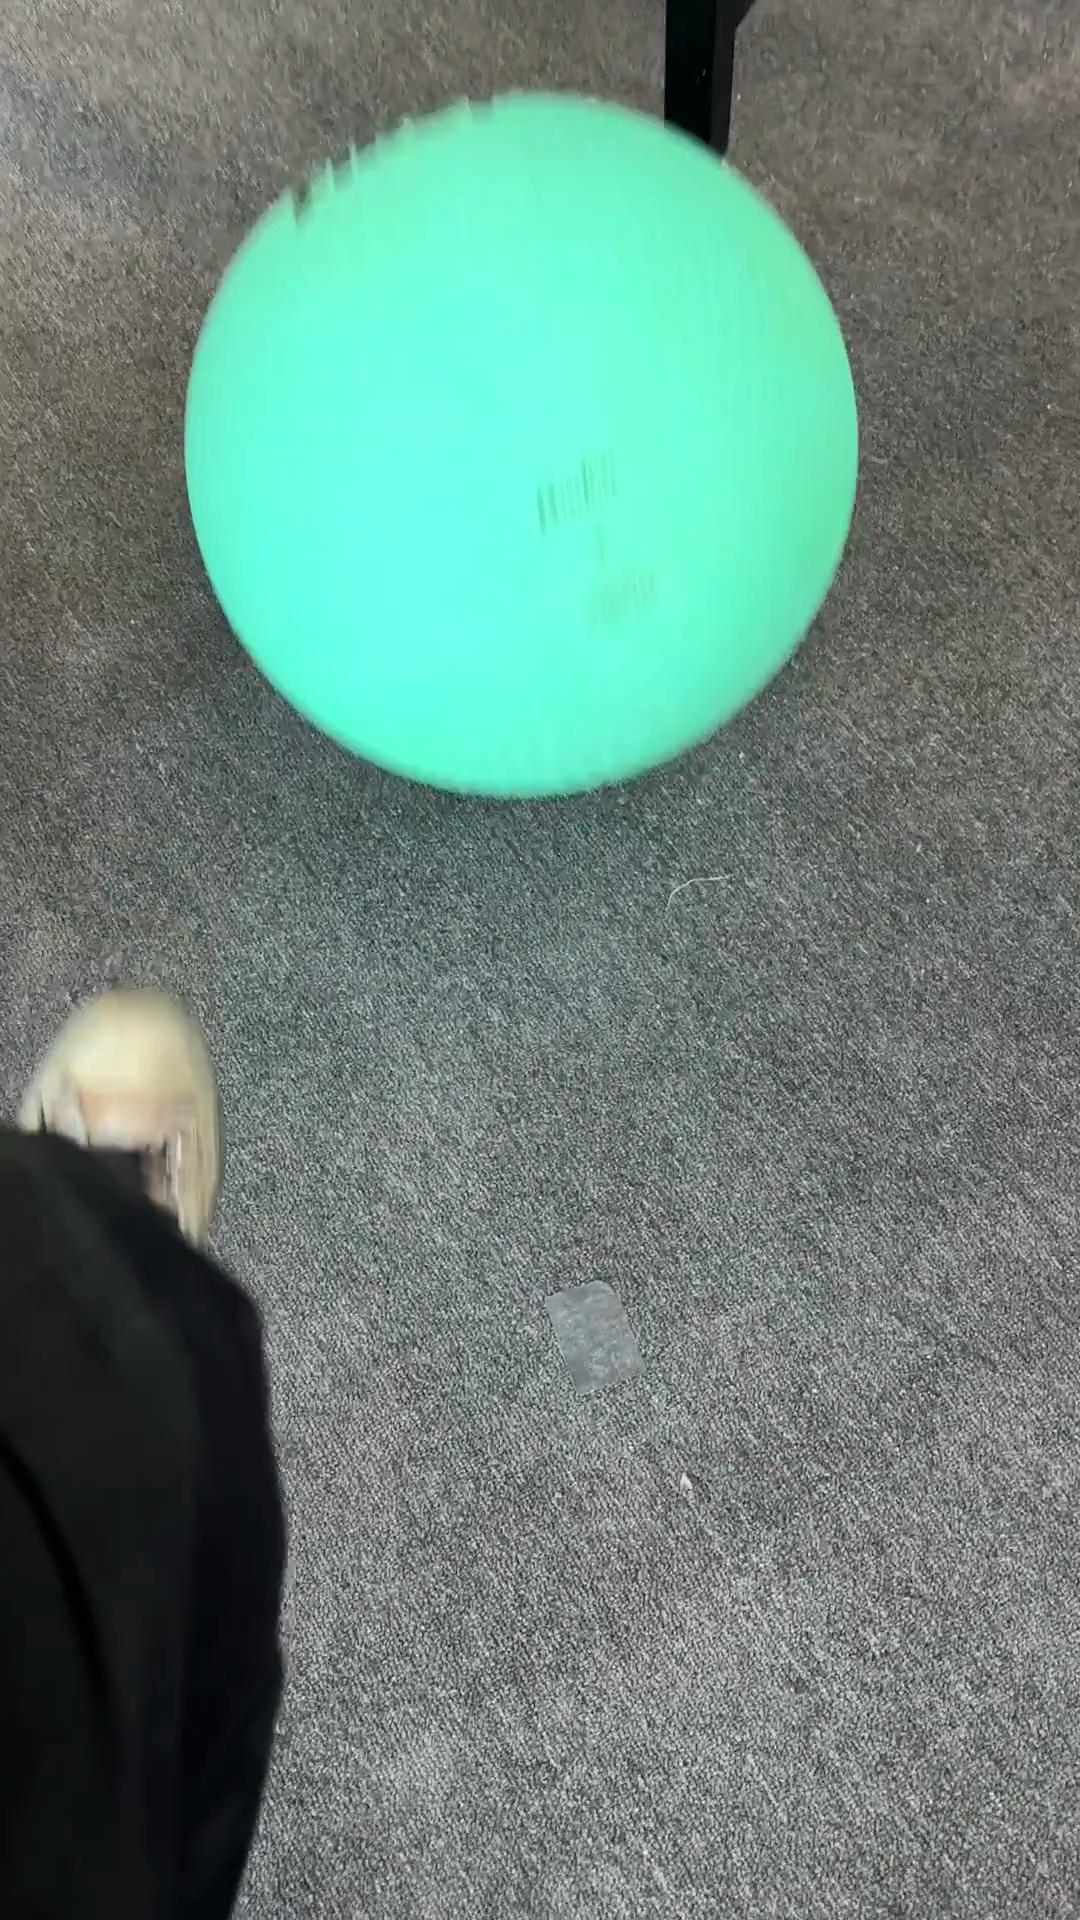ALGAE: (179, 87, 862, 800)
